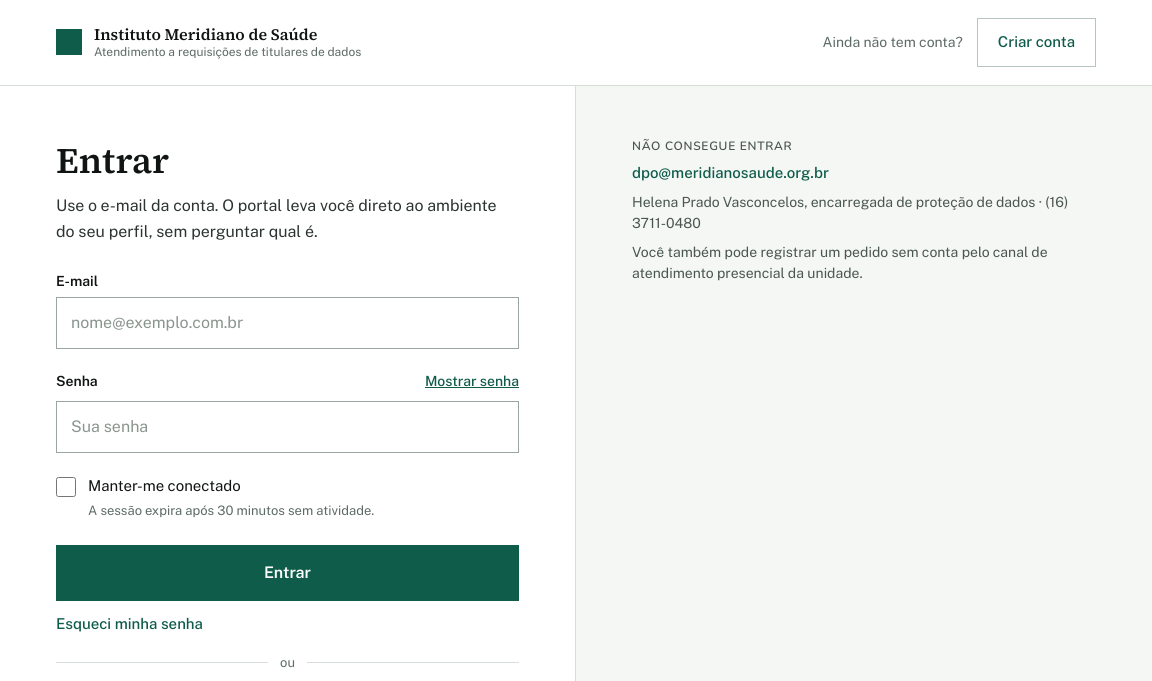
Scenario: Acesso à conta › leva o titular aos próprios pedidos, sem perguntar o perfil
The width and height of the screenshot is (1152, 681).
Type "titular@exemplo.com.br" into the field labelled "E-mail" at point(288, 323), box [56,297,519,349]
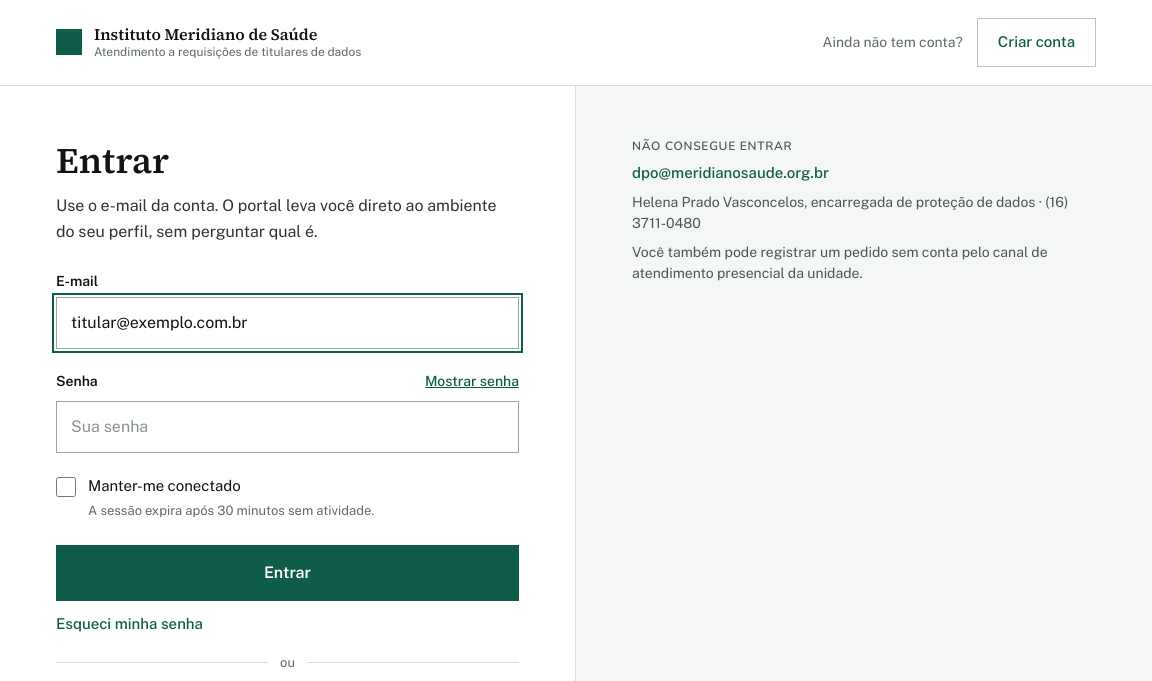
Type "SenhaSegura!123" into the password field labelled "Senha" at point(288, 427), box [56,401,519,453]
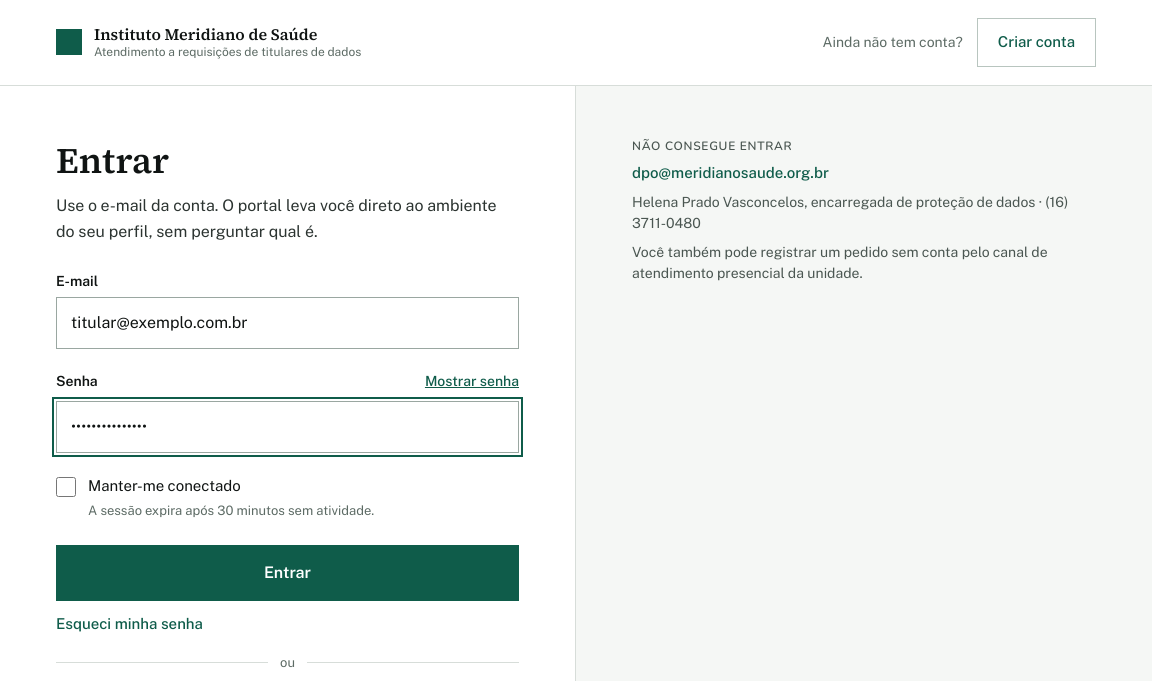
Click the submit button at point(288, 573), box [56,545,519,601]
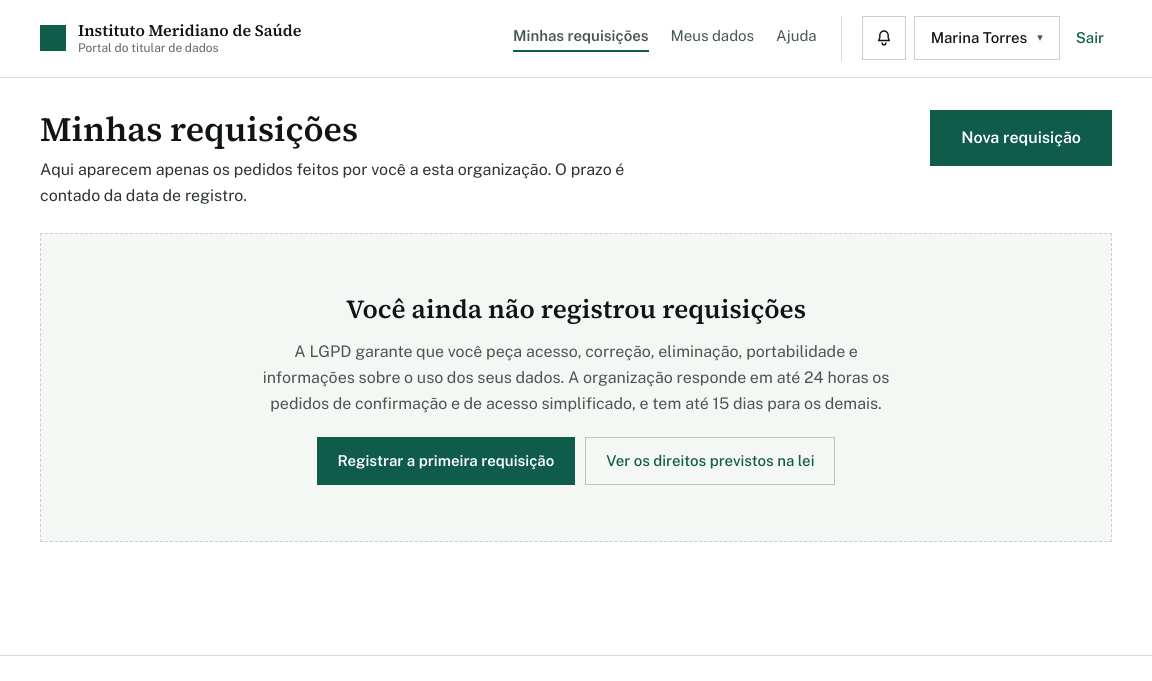
Result: the heading "Minhas requisições" is shown at [40,106,358,152]
